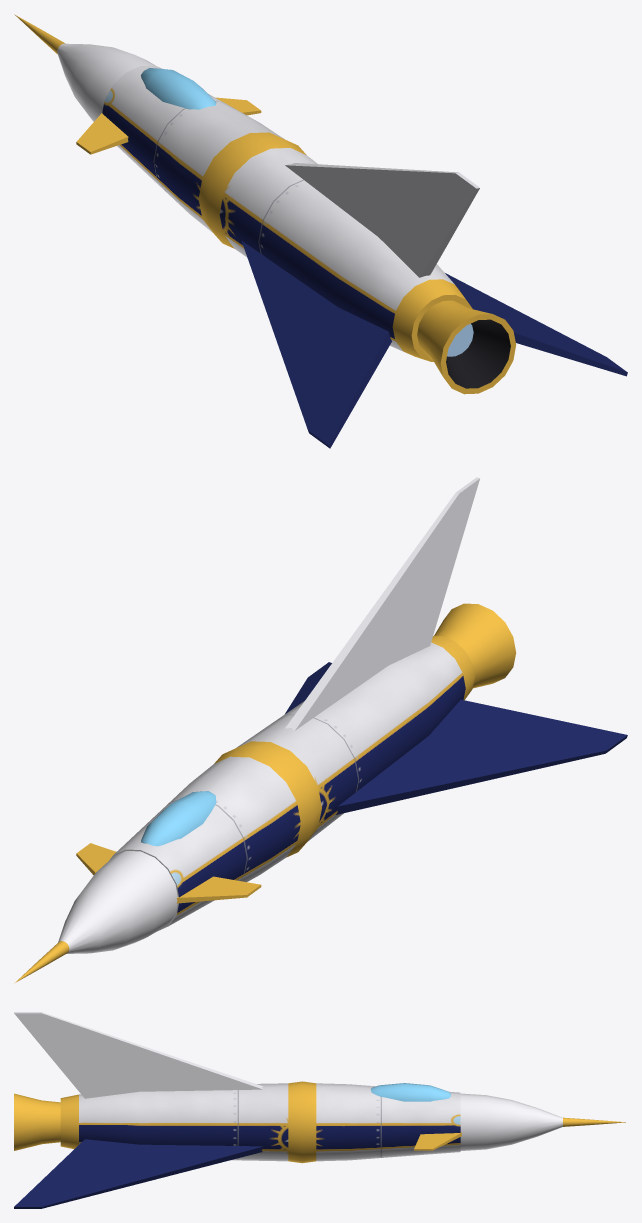
File: senate_patrol.obj
The picture shows the model from 3 angles, top to bottom: view 1: azimuth 30°, elevation 25°; view 2: azimuth 150°, elevation 25°; view 3: azimuth 270°, elevation 25°; orthographic projection. The views are drawn at different scales.
Parts seen in each view (by area): view 1: hull, fin250, fin0, bell, fin110, canopy, canard_l; view 2: hull, fin250, fin0, bell, canopy, canard_l, canard_r; view 3: hull, fin0, fin110, bell, canopy, canard_r.
Boxes of the visible parts, x1=… form: hull: x1=14, y1=14, x2=472, y2=361; fin250: x1=241, y1=241, x2=391, y2=448; fin0: x1=285, y1=163, x2=479, y2=277; bell: x1=417, y1=300, x2=516, y2=394; fin110: x1=445, y1=273, x2=627, y2=376; canopy: x1=141, y1=68, x2=216, y2=109; canard_l: x1=76, y1=113, x2=128, y2=154; hull: x1=14, y1=636, x2=474, y2=983; fin250: x1=336, y1=699, x2=627, y2=814; fin0: x1=285, y1=477, x2=479, y2=730; bell: x1=434, y1=603, x2=516, y2=688; canopy: x1=141, y1=791, x2=216, y2=846; canard_l: x1=176, y1=876, x2=261, y2=903; canard_r: x1=76, y1=843, x2=116, y2=875; hull: x1=60, y1=1081, x2=625, y2=1163; fin0: x1=14, y1=1012, x2=262, y2=1098; fin110: x1=14, y1=1139, x2=263, y2=1208; bell: x1=14, y1=1093, x2=60, y2=1150; canopy: x1=370, y1=1083, x2=450, y2=1101; canard_r: x1=414, y1=1132, x2=461, y2=1150.
Size of the model in its own units: 4.91 by 3.52 by 13.2.
7 materials, 1 textured.
